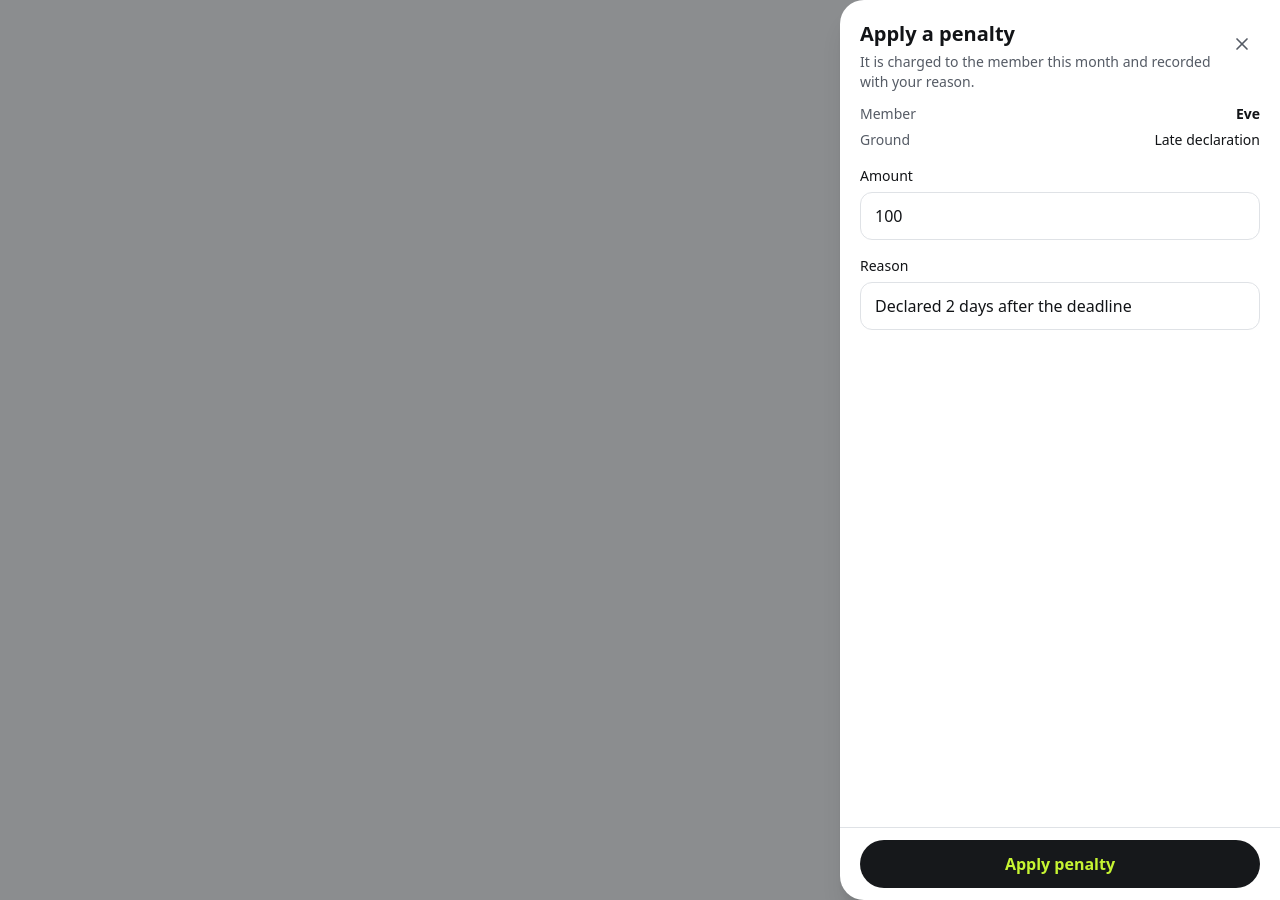
Test: applying takes a second tap, sends the edited amount with the suggestion’s ground, once
The width and height of the screenshot is (1280, 900).
Replace the text in the field labelled "Amount" with "50" at (1060, 216), box [860, 192, 1260, 240]
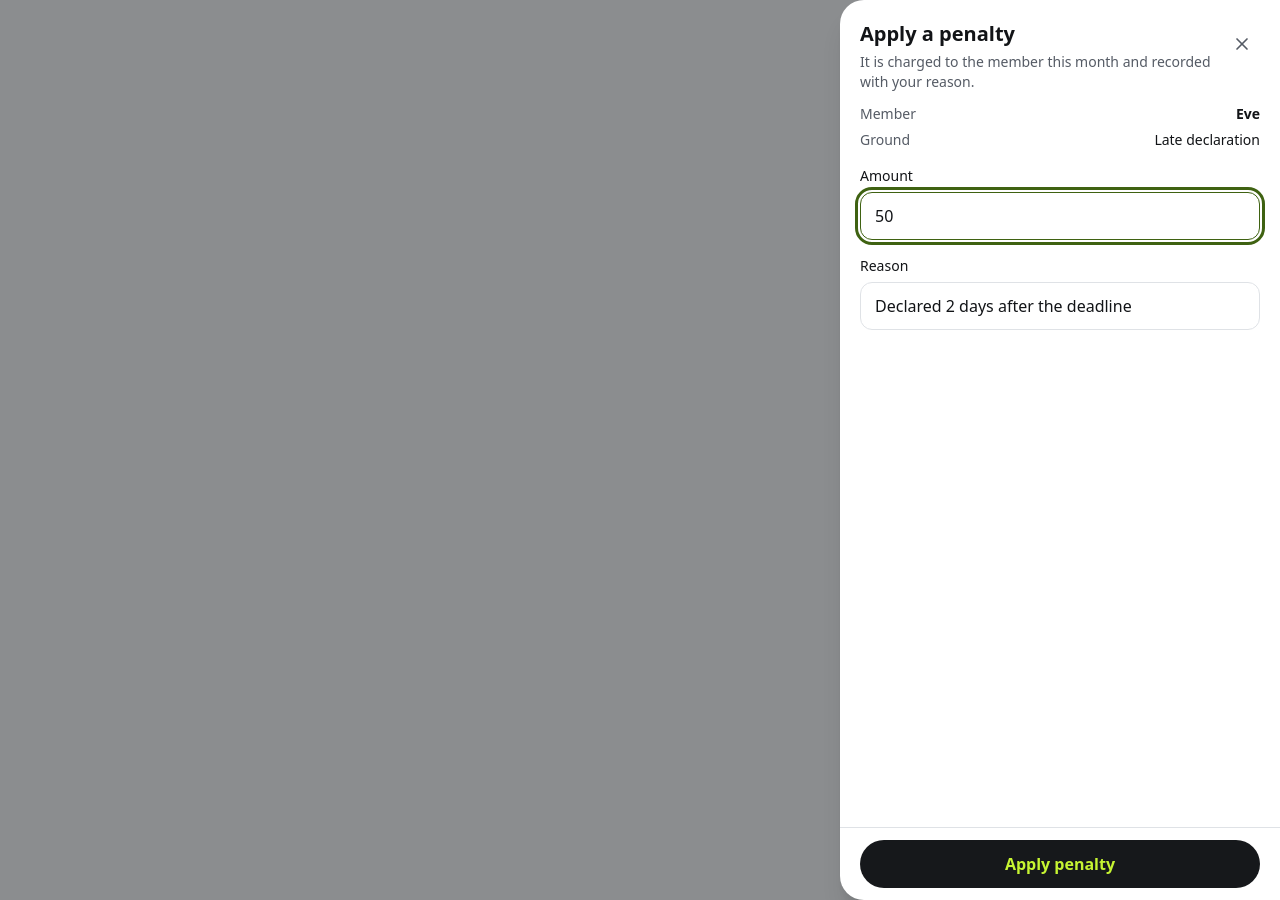
Click the button "Apply penalty" at (1060, 864), box [860, 840, 1260, 888]
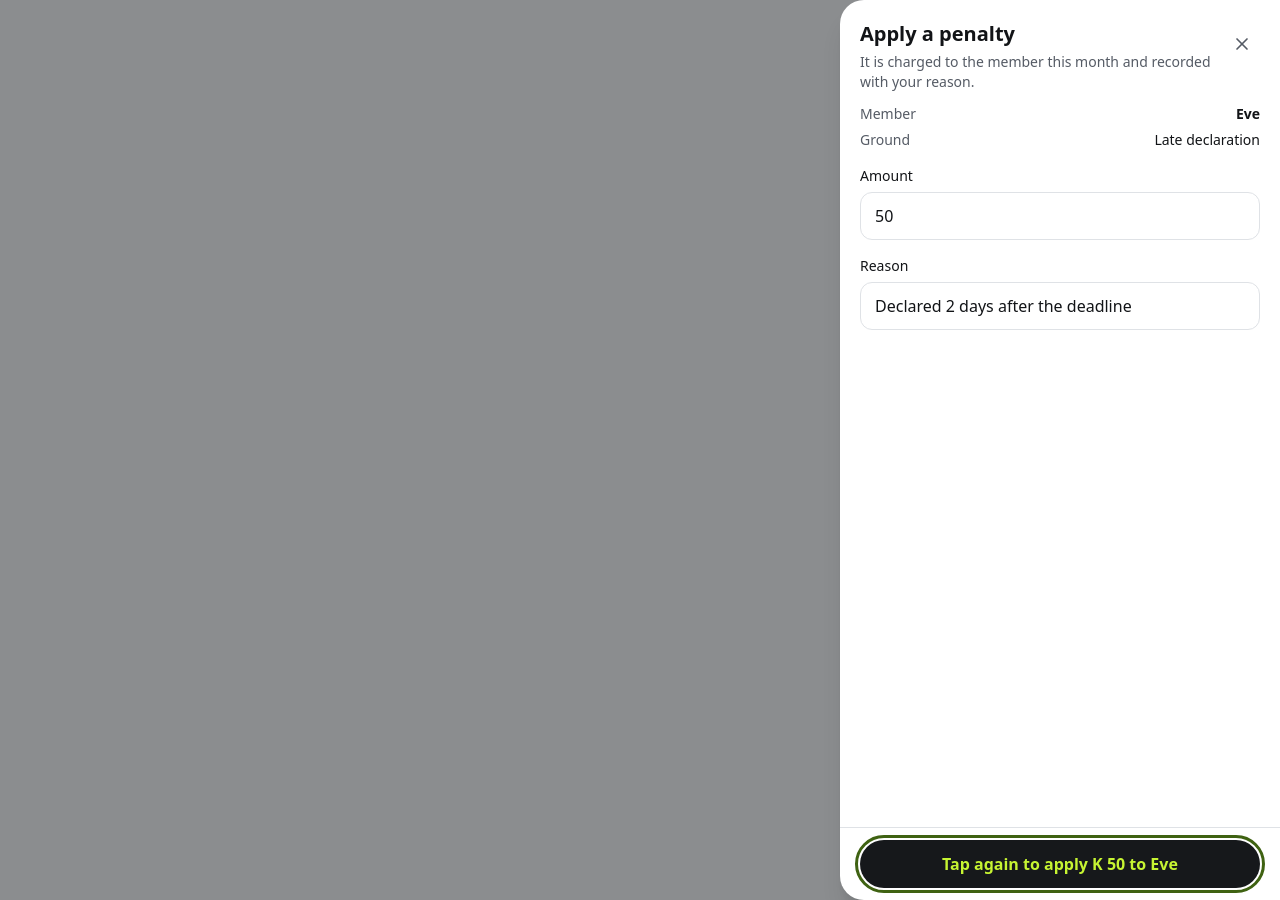
Click the button "Tap again to apply K 50 to Eve" at (1060, 864), box [860, 840, 1260, 888]
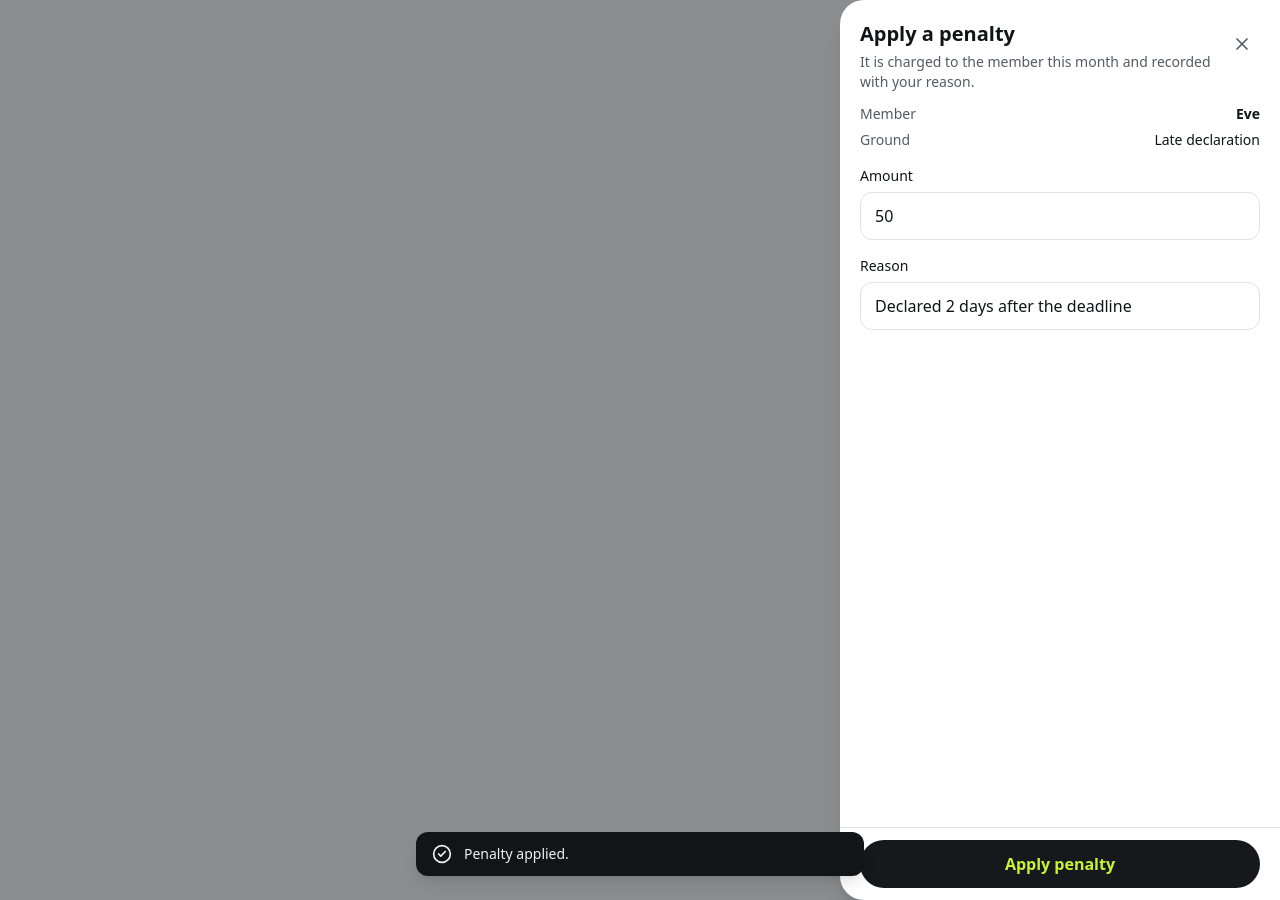
Now the text "Penalty applied." is shown, box [464, 844, 569, 863]
